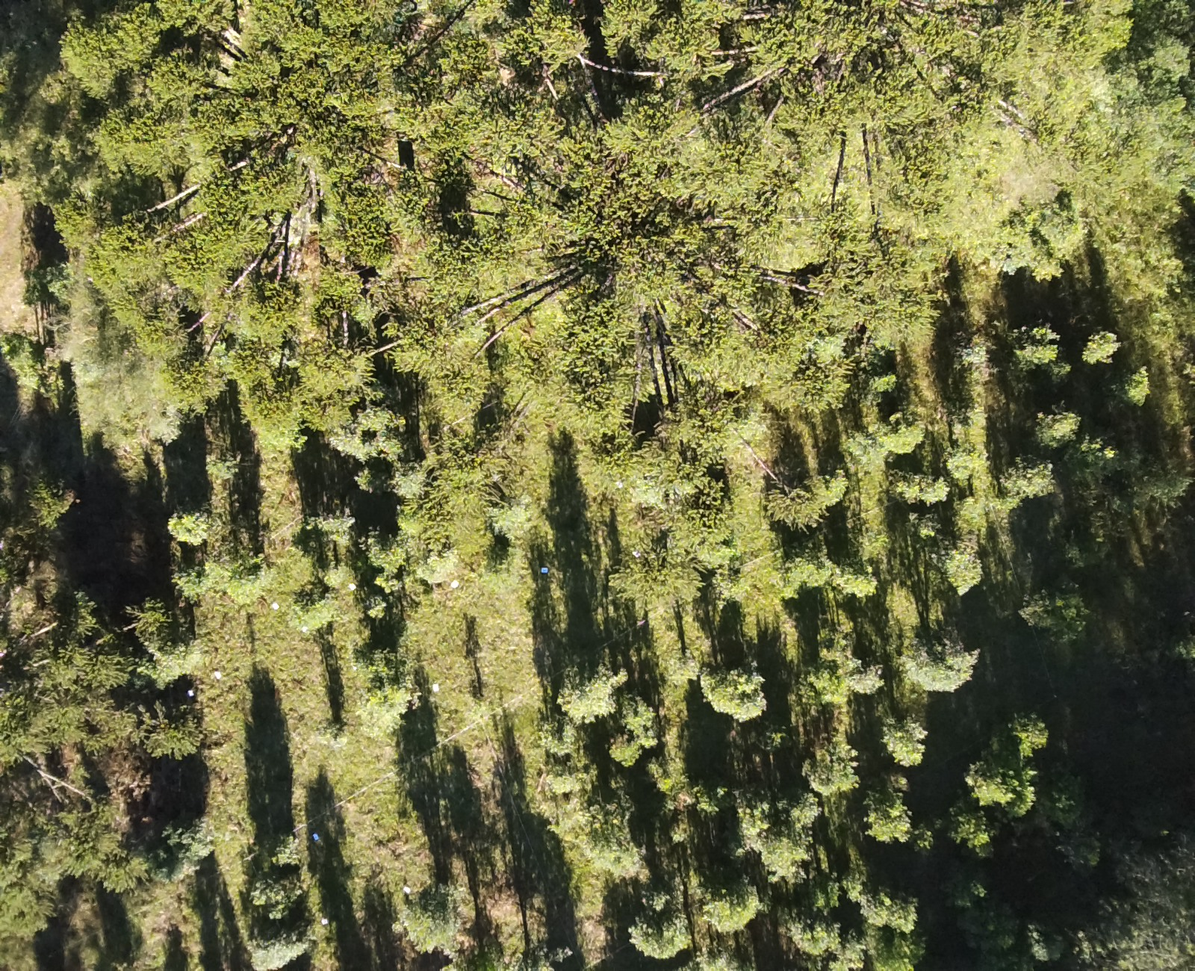erva: (904, 612, 978, 695), (397, 885, 475, 958), (356, 668, 420, 736), (707, 664, 767, 730), (626, 905, 695, 960), (802, 730, 857, 798), (243, 925, 320, 970), (865, 795, 922, 851), (159, 505, 223, 553), (553, 664, 607, 719), (963, 766, 1020, 817), (482, 509, 556, 546), (219, 562, 284, 604), (407, 551, 462, 600), (704, 879, 759, 928), (763, 834, 816, 881), (1021, 706, 1067, 760), (884, 719, 928, 775), (247, 868, 302, 911), (311, 509, 362, 555), (786, 918, 838, 962), (595, 831, 644, 877), (659, 645, 704, 695), (1076, 323, 1117, 374), (828, 559, 881, 598), (884, 407, 922, 461), (893, 470, 947, 507), (150, 639, 205, 675), (1036, 397, 1080, 441), (780, 782, 820, 830), (949, 809, 993, 852), (943, 550, 986, 593), (946, 435, 992, 475), (1019, 323, 1058, 370), (732, 798, 769, 845), (600, 736, 644, 772), (831, 860, 877, 894), (823, 936, 869, 970), (882, 893, 920, 933), (294, 601, 342, 630), (609, 701, 659, 728), (1118, 363, 1150, 403), (384, 468, 417, 505), (323, 562, 367, 587), (264, 827, 294, 862), (848, 896, 877, 924), (851, 652, 872, 690)
